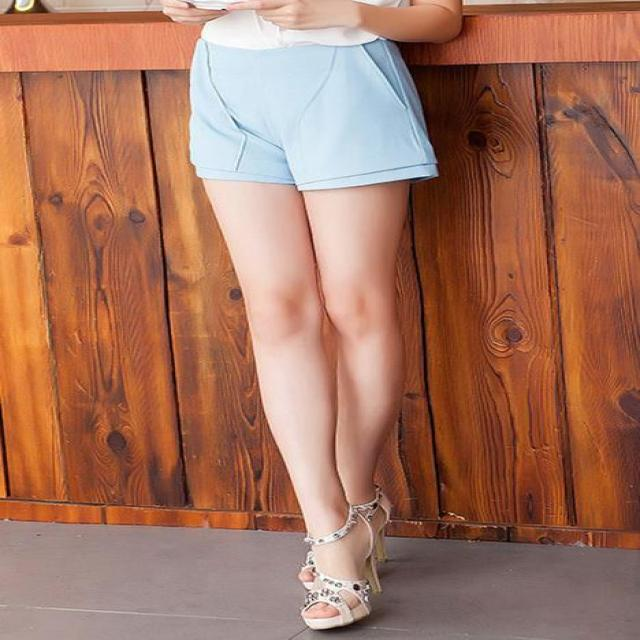shorts: (116, 13, 468, 194)
